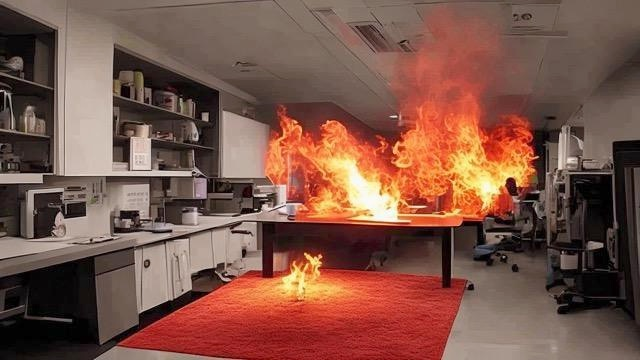fire: (262, 39, 536, 243)
